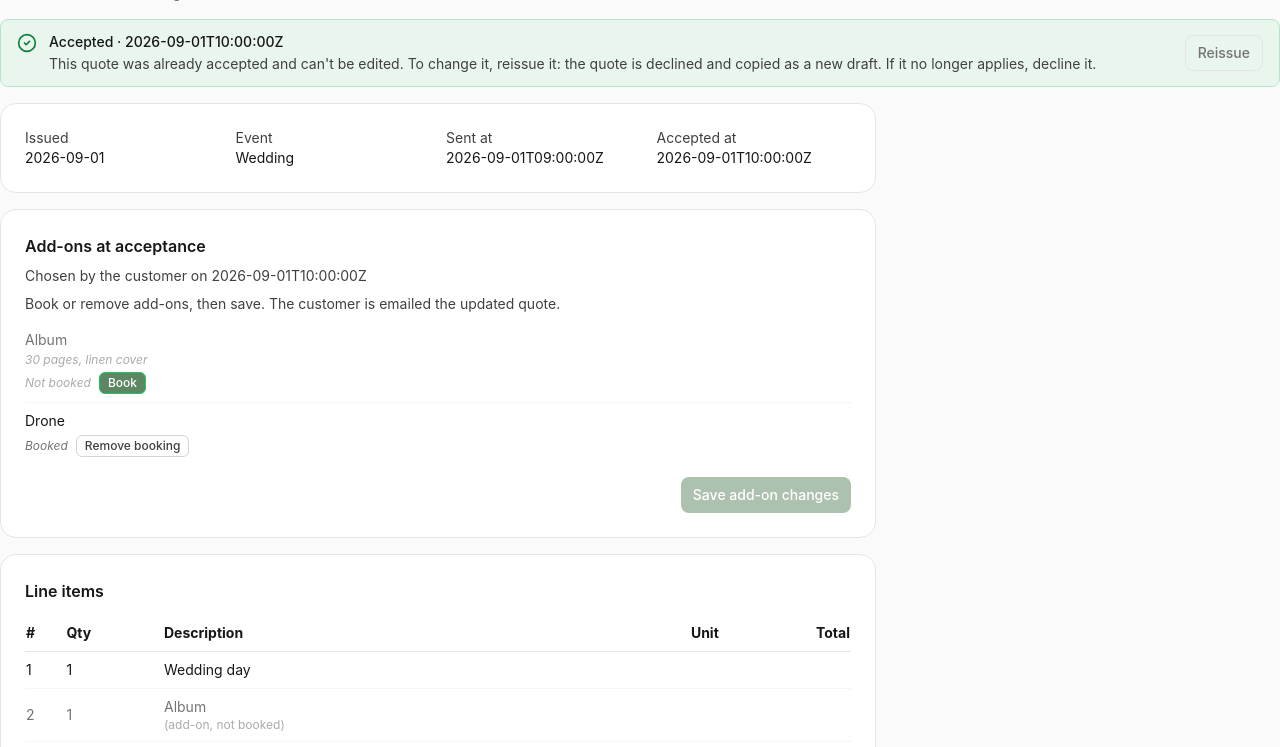
Test case: reissues an accepted quote and opens the new draft
Click the button "Reissue" at (1224, 53), box [1185,35,1263,71]
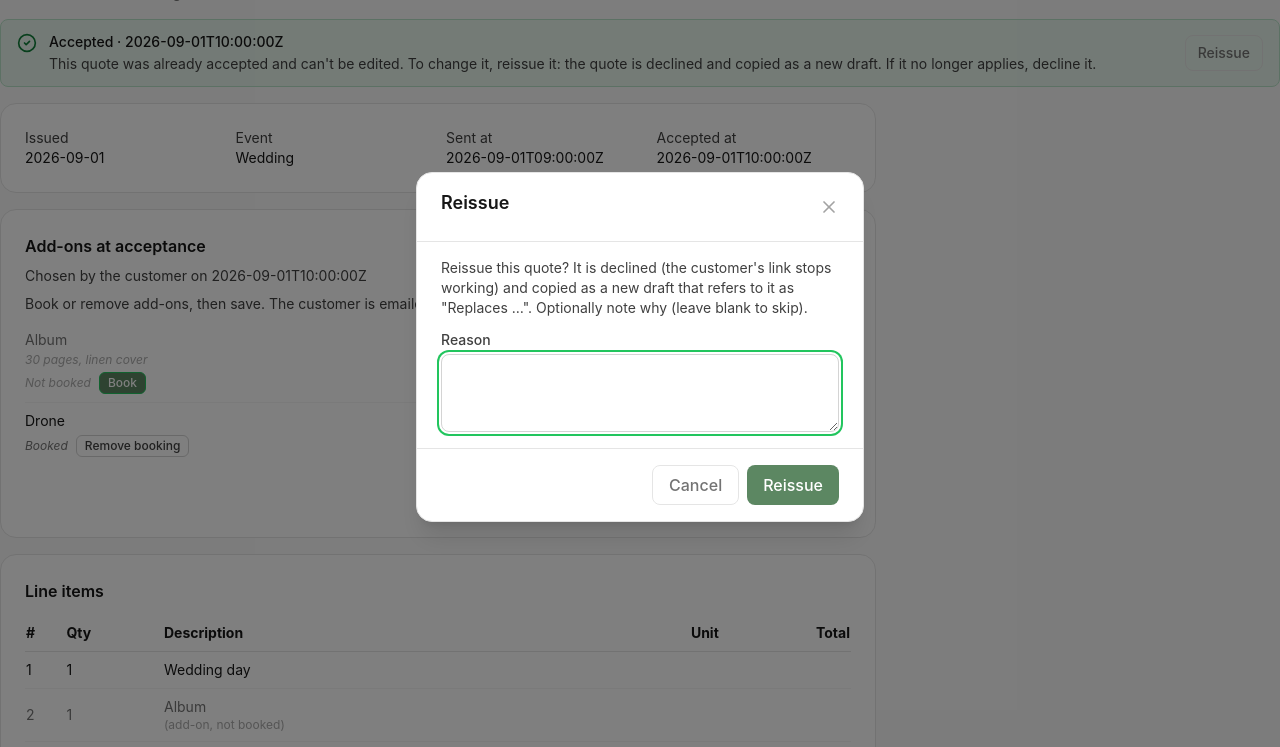
Type "Kunde möchte ein grösseres Album" into the text box at (640, 393), box [441,354,839,432]
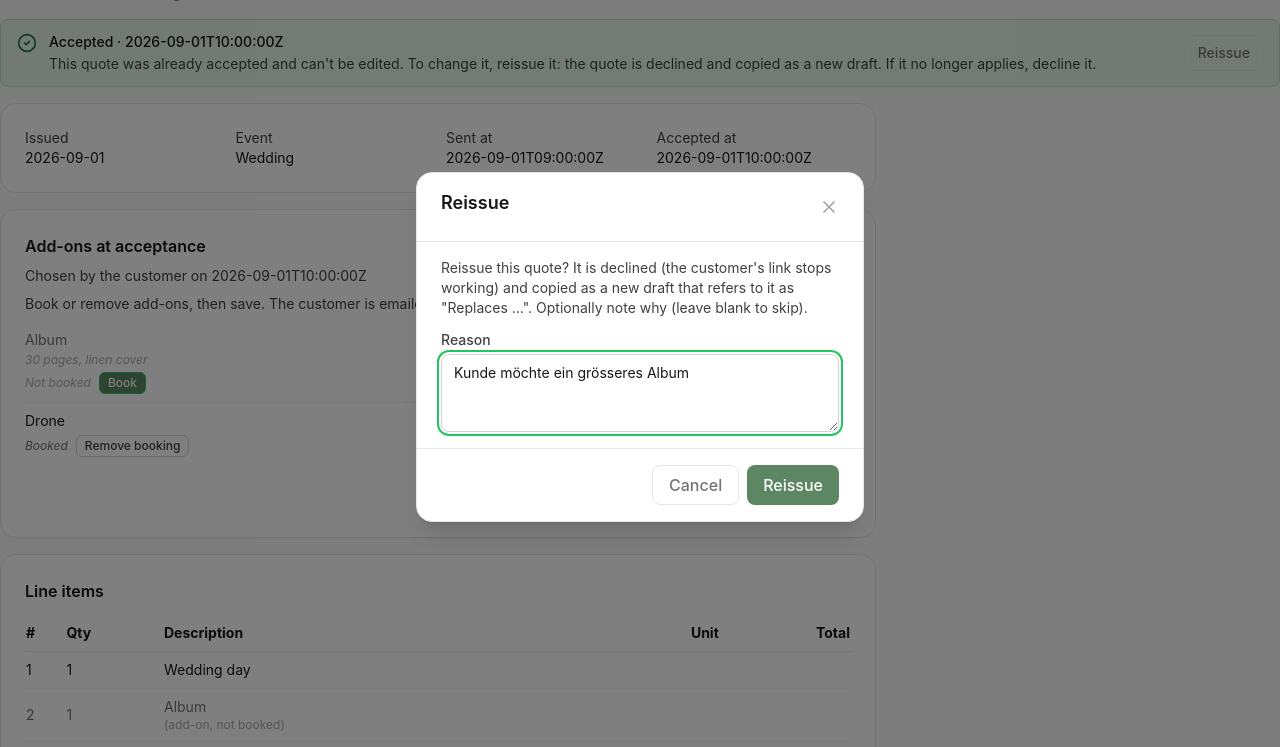
Click the button "Reissue" at (793, 485), box [747,465,839,505]
(page scrolled)
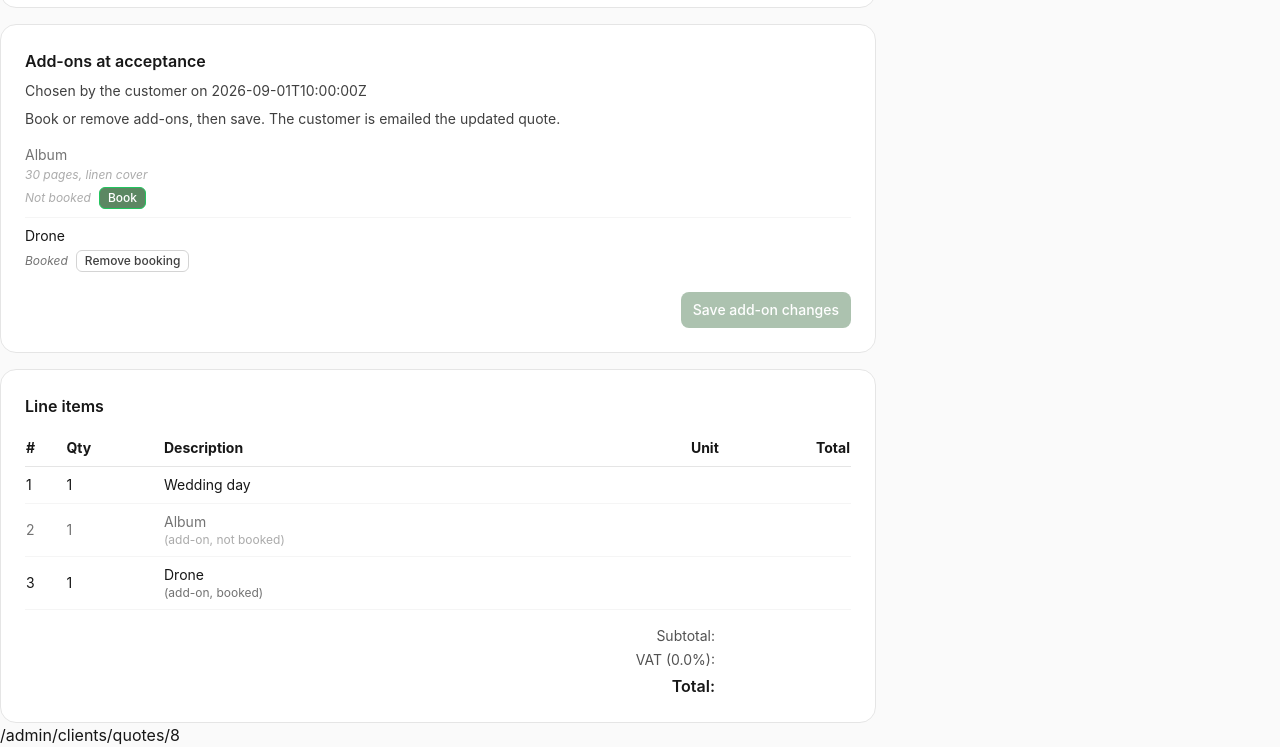
Result: the text with test id "where" reads "/admin/clients/quotes/8" at [0,725,180,745]
